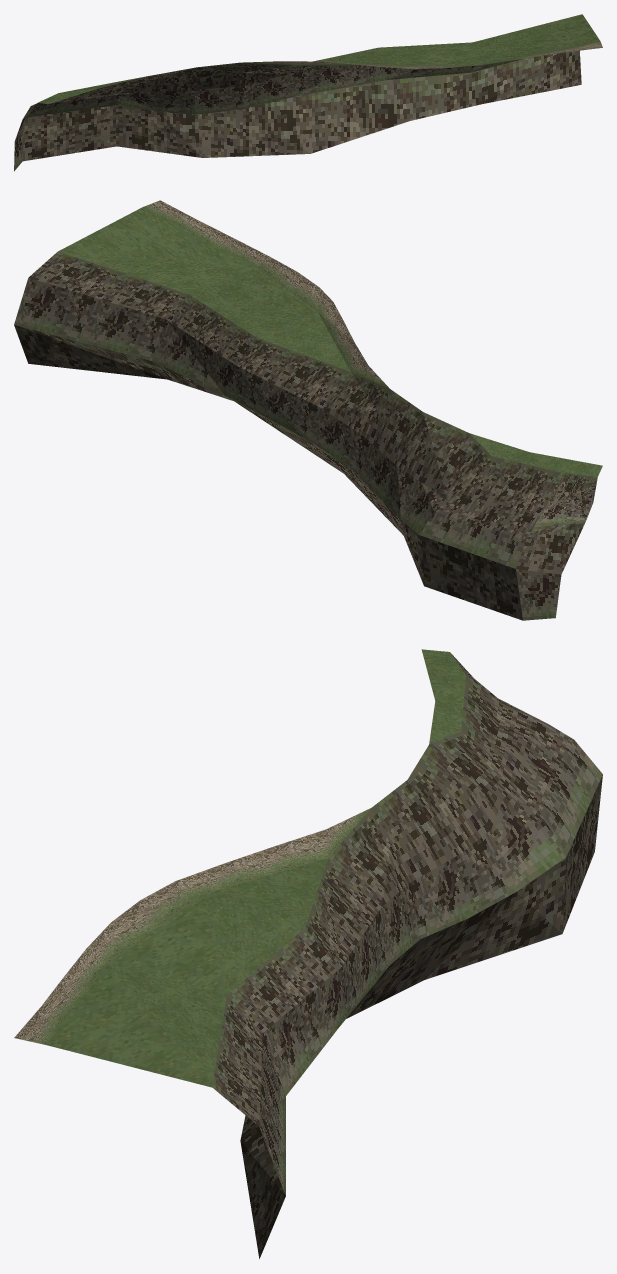
File: lodce_groundpalo08.obj
3 renders of one model, top to bottom at view 1: azimuth 30°, elevation 25°; view 2: azimuth 150°, elevation 25°; view 3: azimuth 270°, elevation 25°, orthographic. The views are drawn at different scales.
Parts seen in each view (by area): view 1: LODCE_groundPALO08; view 2: LODCE_groundPALO08; view 3: LODCE_groundPALO08.
Boxes of the visible parts, left/top/right/bottom form: LODCE_groundPALO08: left=14, top=14, right=602, bottom=171; LODCE_groundPALO08: left=14, top=200, right=602, bottom=620; LODCE_groundPALO08: left=14, top=649, right=602, bottom=1258.
Bounding box in the file's own units: 288 × 63.62 × 149.
Materials: 3 (3 with a texture image).
